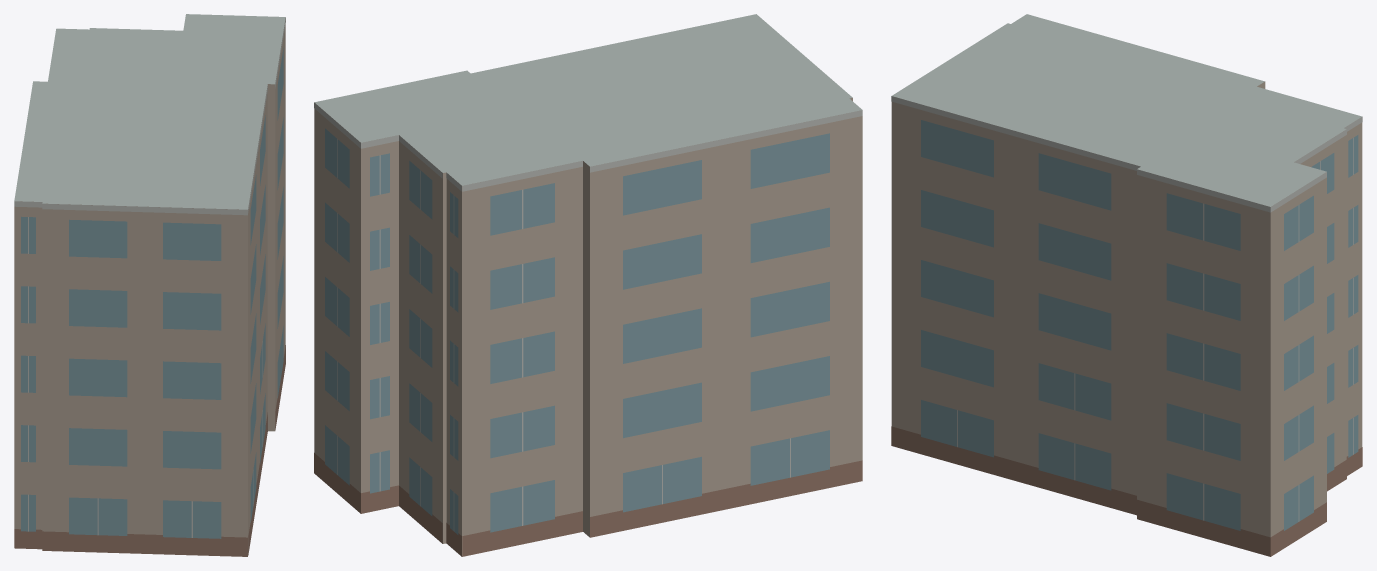
Rendered from survey-upis-32956242.glb.
3 views of the same model, side by side, from view 1: azimuth 30°, elevation 25°; view 2: azimuth 150°, elevation 25°; view 3: azimuth 270°, elevation 25° (orthographic). The views are drawn at different scales.
Visible parts, largest first — view 1: survey-upis-32956242.tmp; view 2: survey-upis-32956242.tmp; view 3: survey-upis-32956242.tmp.
Boxes of the visible parts, left/top/right/bottom form: survey-upis-32956242.tmp: left=14, top=14, right=285, bottom=556; survey-upis-32956242.tmp: left=314, top=14, right=862, bottom=556; survey-upis-32956242.tmp: left=891, top=14, right=1362, bottom=556.
Bounding box in the file's own units: 18.05 × 15.25 × 18.61.
